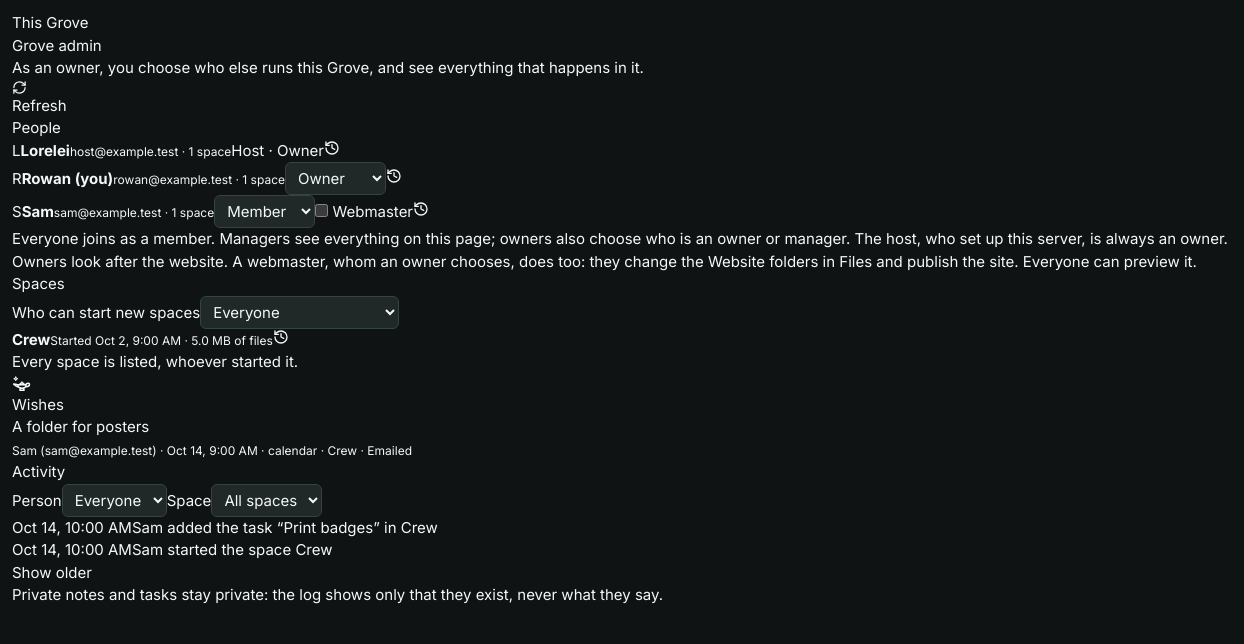
Scenario: lets an owner choose webmasters; owners look after the website anyway
What coordinates should you click on to do the following:
click the checkbox named "Webmaster: Sam"
I would click on:
 (322, 210)
Its box is [315, 204, 328, 217].
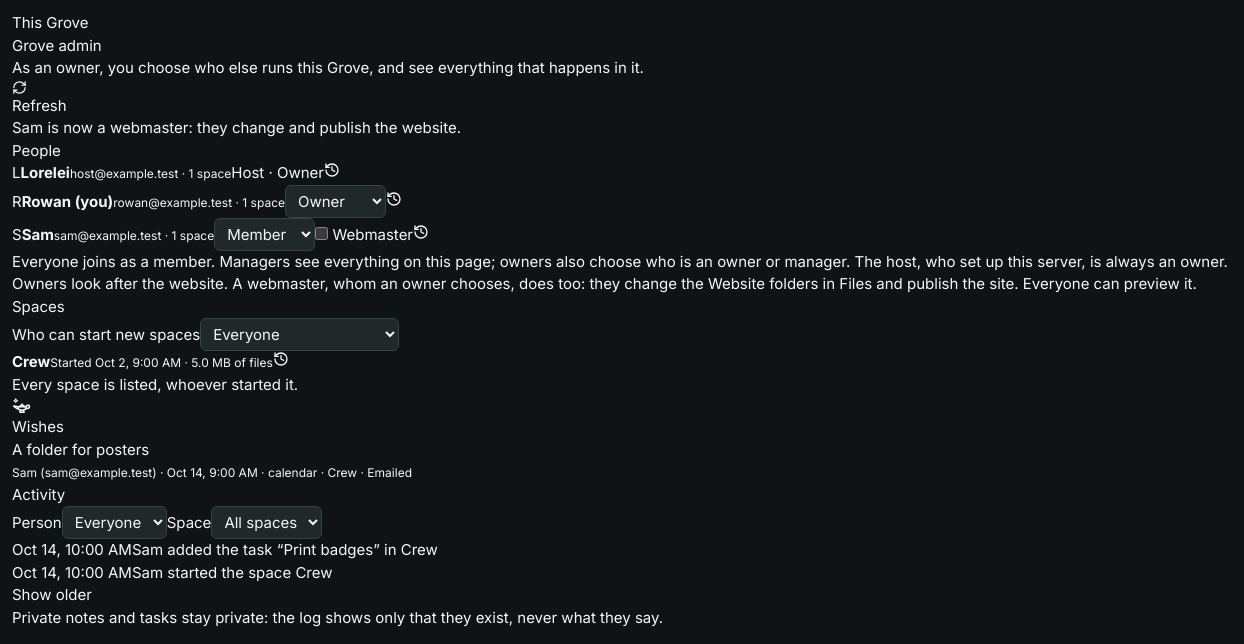
Expected: the text "Sam is now a webmaster: they change and publish the website." is shown, [12, 118, 461, 137]
